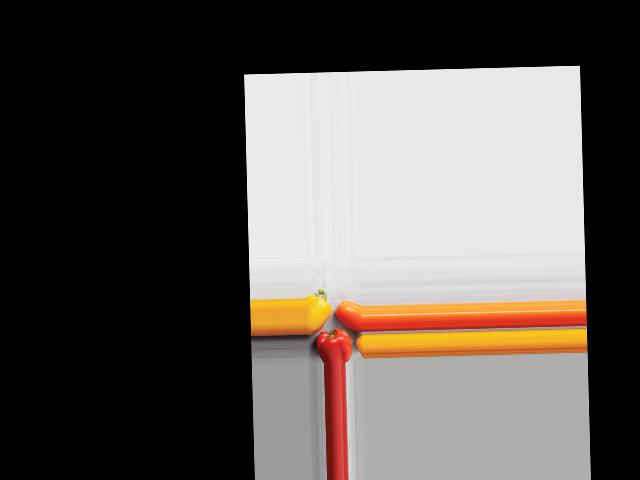bell_pepper: (313, 327, 352, 362)
